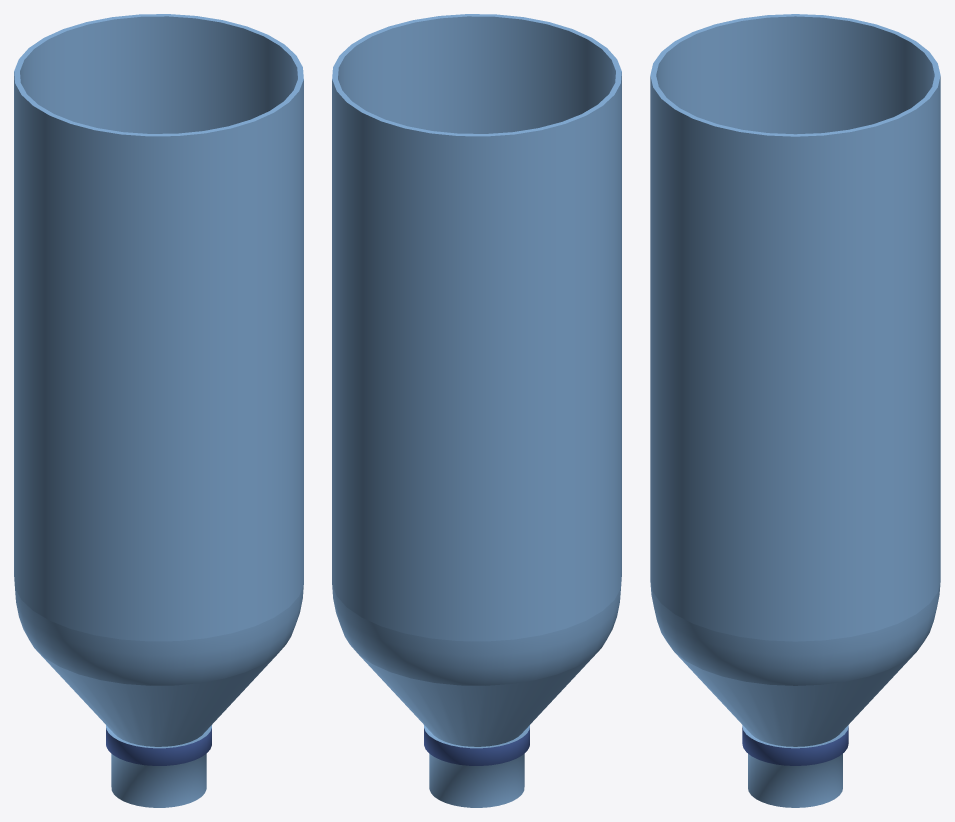
Rendered from Botol With Filterasi.fbx.
3 views of the same model, side by side, from view 1: azimuth 30°, elevation 25°; view 2: azimuth 150°, elevation 25°; view 3: azimuth 270°, elevation 25° (orthographic).
Visible parts, largest first — view 1: Botol; view 2: Botol; view 3: Botol.
Part boxes in pixels (left/top/right/bottom): Botol: left=14, top=14, right=303, bottom=807; Botol: left=332, top=14, right=621, bottom=807; Botol: left=650, top=14, right=940, bottom=807.
Size of the model in its own units: 79.49 by 215 by 79.49.
